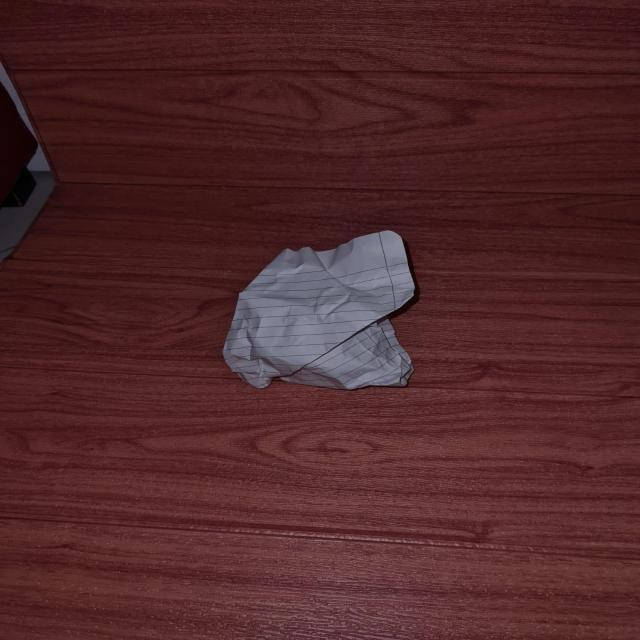cardboard paper: (222, 230, 413, 387)
